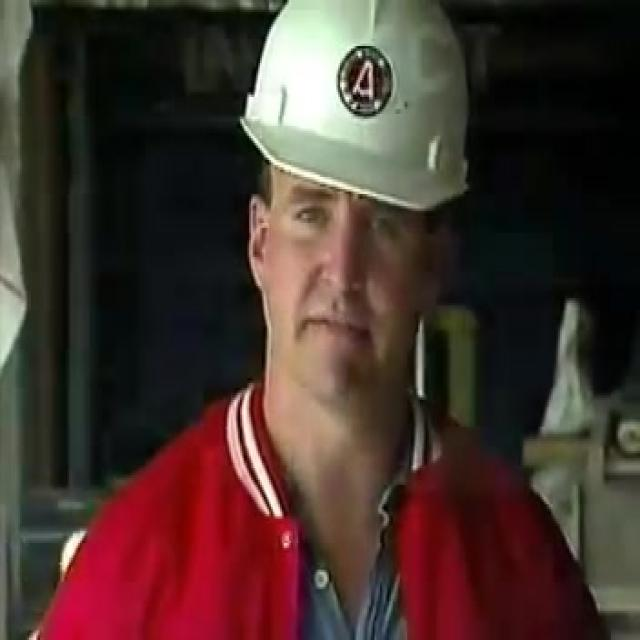Reflective-Jacket: (25, 366, 628, 633)
Safety-Helmet: (232, 5, 492, 225)
